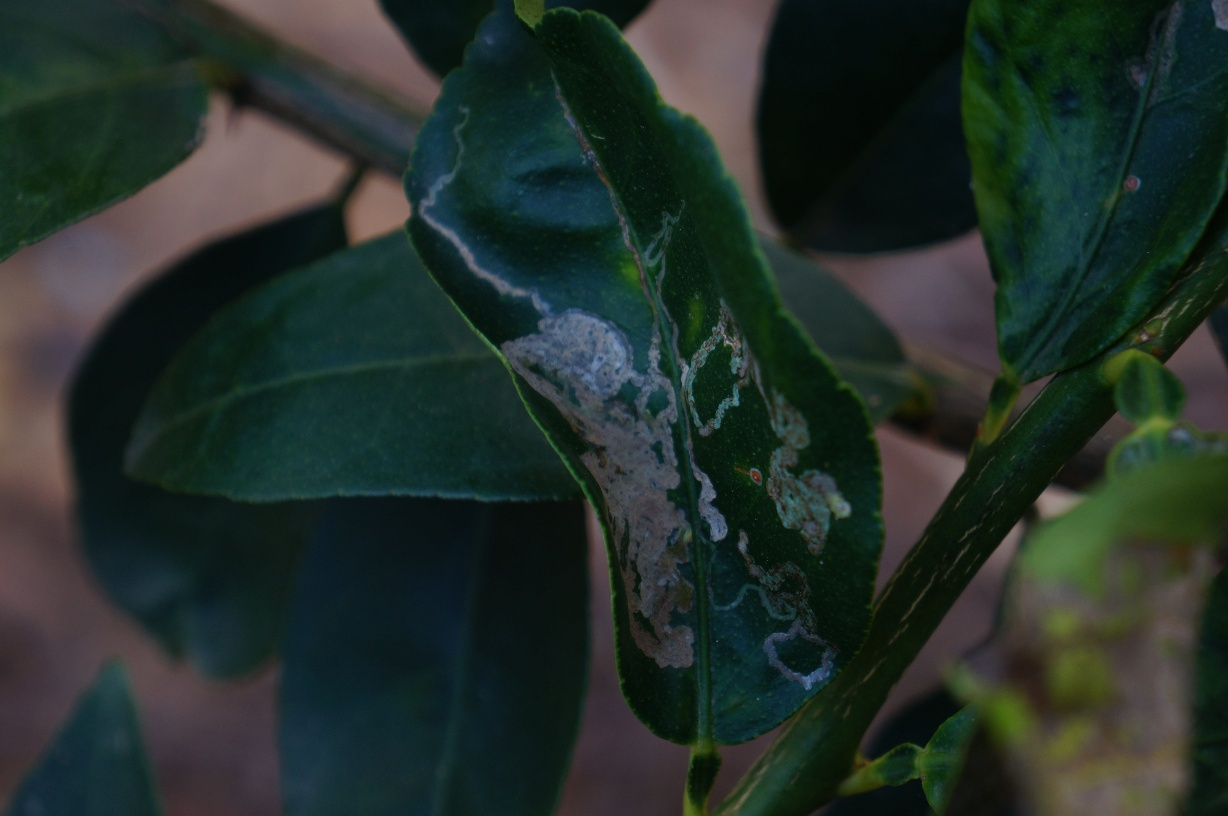damage: (467, 285, 714, 680), (667, 290, 846, 688), (406, 100, 565, 322)
